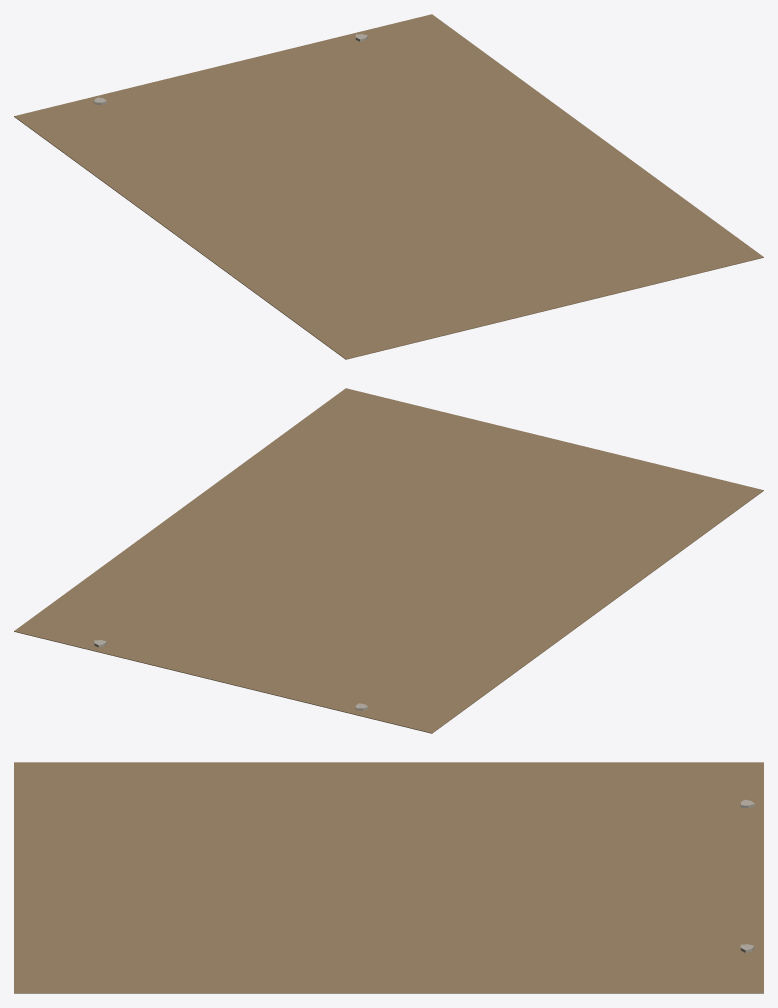
The model's file is ground.glb.
3 renders of one model, top to bottom at view 1: azimuth 30°, elevation 25°; view 2: azimuth 150°, elevation 25°; view 3: azimuth 270°, elevation 25°, orthographic. The views are drawn at different scales.
Parts seen in each view (by area): view 1: ground_dirt; view 2: ground_dirt; view 3: ground_dirt.
Part boxes in pixels (x1,y1,x2,y2): ground_dirt: (14,14,763,359); ground_dirt: (14,388,763,733); ground_dirt: (14,762,763,993).
Size of the model in its own units: 8 by 0.055 by 11.
